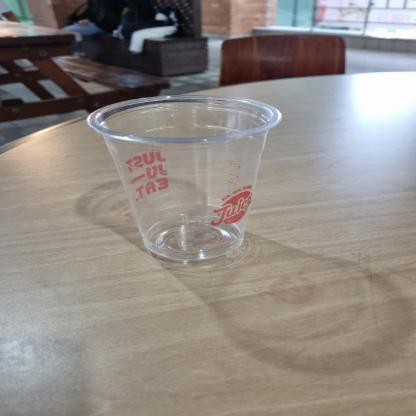Plastic Cup: (81, 91, 291, 265)
